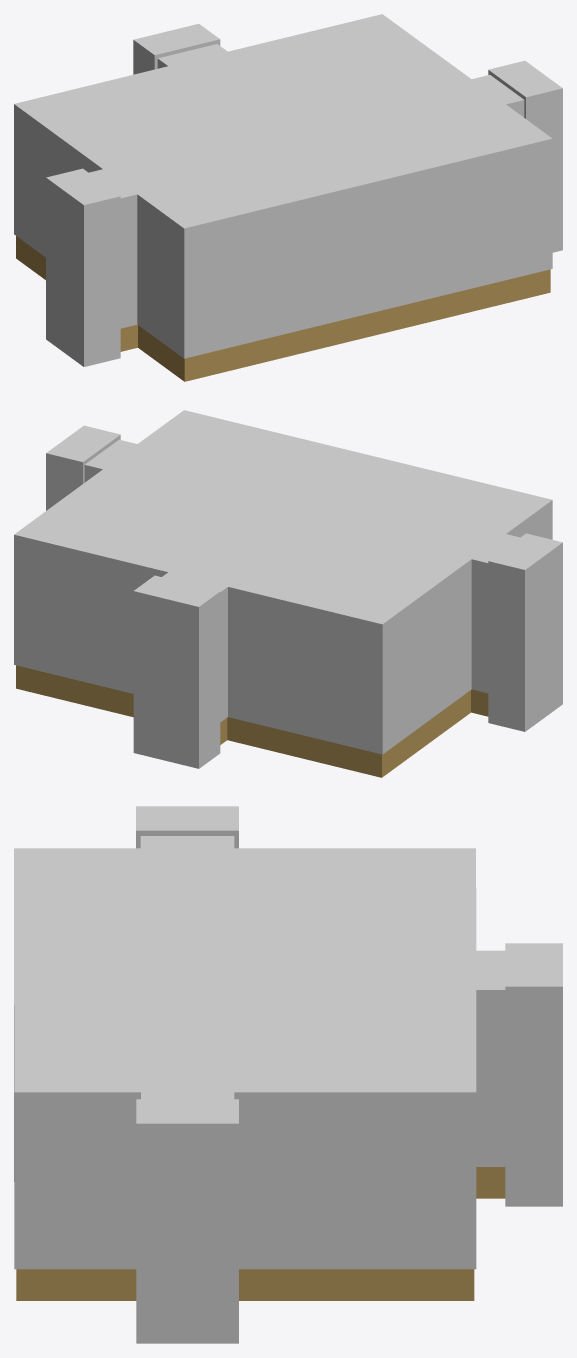
Rendered from gallery_3.glb.
3 views of the same model, one above another, from view 1: azimuth 30°, elevation 25°; view 2: azimuth 150°, elevation 25°; view 3: azimuth 270°, elevation 25° (orthographic). The views are drawn at different scales.
Visible parts, largest first — view 1: Cube.004, trigger.005, trigger.009, trigger.006; view 2: Cube.004, trigger.006, trigger.005, trigger.009; view 3: Cube.004, trigger.009, trigger.006, trigger.005.
Boxes of the visible parts, x1=… form: Cube.004: x1=14, y1=14, x2=552, y2=381; trigger.005: x1=46, y1=168, x2=120, y2=366; trigger.009: x1=488, y1=60, x2=562, y2=252; trigger.006: x1=133, y1=24, x2=220, y2=74; Cube.004: x1=14, y1=410, x2=552, y2=777; trigger.006: x1=133, y1=575, x2=220, y2=768; trigger.005: x1=488, y1=533, x2=562, y2=731; trigger.009: x1=46, y1=425, x2=120, y2=510; Cube.004: x1=14, y1=836, x2=505, y2=1300; trigger.009: x1=136, y1=1099, x2=238, y2=1343; trigger.006: x1=505, y1=943, x2=562, y2=1206; trigger.005: x1=136, y1=806, x2=238, y2=848.
Size of the model in its own units: 13 by 4.2 by 9.51.
